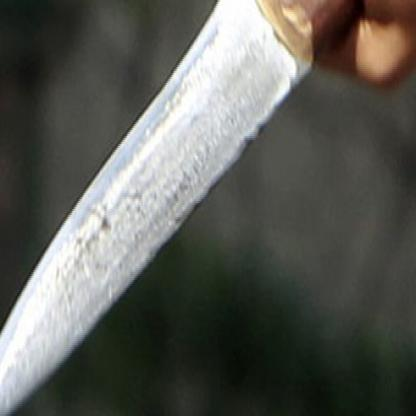knife: (0, 0, 392, 414)
